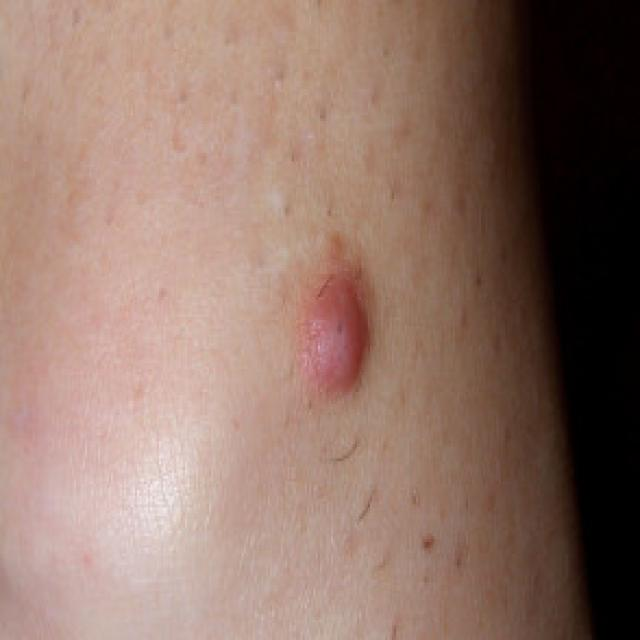Nao cancer: (296, 257, 389, 424)
